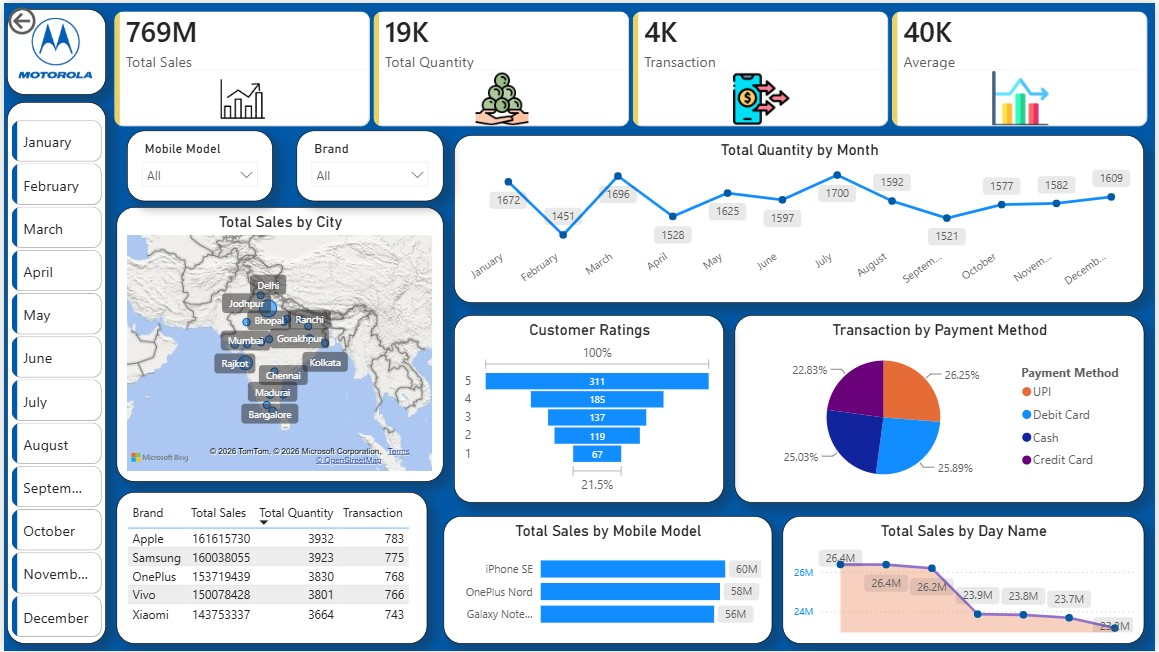

The dashboard page shown, as its layout file describes it:
{"tool":"powerbi","page":{"name":"Page 1","canvas":[1280,720],"ordinal":0},"visuals":[{"type":"shape","box":[3.3,6.7,110,95],"z":0},{"type":"image","box":[0,6.7,113.3,90],"z":1000},{"type":"shape","box":[3.3,110,110,601.7],"z":2000},{"type":"advancedSlicerVisual","fields":{"Values":["Sales_Data.Date.Variation.Date Hierarchy.Month"]},"box":[3.3,125,110,586.7],"z":3000},{"type":"cardVisual","fields":{"Data":["Sales_Data.Total Sales","Sales_Data.Total Quantity","Sales_Data.Transaction","Sales_Data.Average"]},"box":[113.3,0,1166.7,146.7],"z":4000},{"type":"map","fields":{"Category":["Sales_Data.City"],"Size":["Sales_Data.Total Sales"]},"box":[125,226.7,363.3,305],"z":5000},{"type":"lineChart","fields":{"Category":["Sales_Data.Date.Variation.Date Hierarchy.Month","Sales_Data.Date.Variation.Date Hierarchy.Day"],"Y":["Sales_Data.Total Quantity"]},"box":[500,146.7,766.7,186.7],"z":6000},{"type":"clusteredBarChart","fields":{"Category":["Sales_Data.Mobile Model"],"Y":["Sales_Data.Total Sales"]},"box":[488.3,570,365,141.7],"z":7000},{"type":"pieChart","fields":{"Category":["Sales_Data.Payment Method"],"Y":["Sales_Data.Transaction"]},"box":[811.7,346.7,455,208.3],"z":8000},{"type":"funnel","title":"Customer Ratings ","fields":{"Category":["Sales_Data.Customer Ratings"],"Y":["CountNonNull(Sales_Data.Customer Ratings)"]},"box":[500,346.7,300,208.3],"z":9000},{"type":"areaChart","fields":{"Category":["Sales_Data.Day Name"],"Y":["Sales_Data.Total Sales"]},"box":[865,570,401.7,141.7],"z":10000},{"type":"tableEx","fields":{"Values":["Sales_Data.Brand","Sales_Data.Total Sales","Sales_Data.Total Quantity","Sales_Data.Transaction"]},"box":[125,543.3,345,168.3],"z":11000},{"type":"actionButton","box":[0,0,100,40],"z":12000},{"type":"slicer","fields":{"Values":["Sales_Data.Mobile Model"]},"box":[136.7,141.7,161.7,78.3],"z":13000},{"type":"slicer","fields":{"Values":["Sales_Data.Brand"]},"box":[325,141.7,163.3,78.3],"z":13001}]}

Visuals, with their boxes in screenshot pixels (x1, y1, x2, y2), scaled from the page's 1280x720 canvas onto the 1159x652 screenshot:
shape: box(3, 6, 103, 92)
image: box(0, 6, 103, 88)
shape: box(3, 100, 103, 644)
advancedSlicerVisual - Sales_Data.Date.Variation.Date Hierarchy.Month: box(3, 113, 103, 644)
cardVisual - Sales_Data.Total Sales x Sales_Data.Total Quantity: box(103, 0, 1158, 133)
map - Sales_Data.City x Sales_Data.Total Sales: box(113, 205, 442, 481)
lineChart - Sales_Data.Date.Variation.Date Hierarchy.Month x Sales_Data.Date.Variation.Date Hierarchy.Day: box(453, 133, 1147, 302)
clusteredBarChart - Sales_Data.Mobile Model x Sales_Data.Total Sales: box(442, 516, 773, 644)
pieChart - Sales_Data.Payment Method x Sales_Data.Transaction: box(735, 314, 1147, 503)
"Customer Ratings " funnel: box(453, 314, 724, 503)
areaChart - Sales_Data.Day Name x Sales_Data.Total Sales: box(783, 516, 1147, 644)
tableEx - Sales_Data.Brand x Sales_Data.Total Sales: box(113, 492, 426, 644)
actionButton: box(0, 0, 91, 36)
slicer - Sales_Data.Mobile Model: box(124, 128, 270, 199)
slicer - Sales_Data.Brand: box(294, 128, 442, 199)
